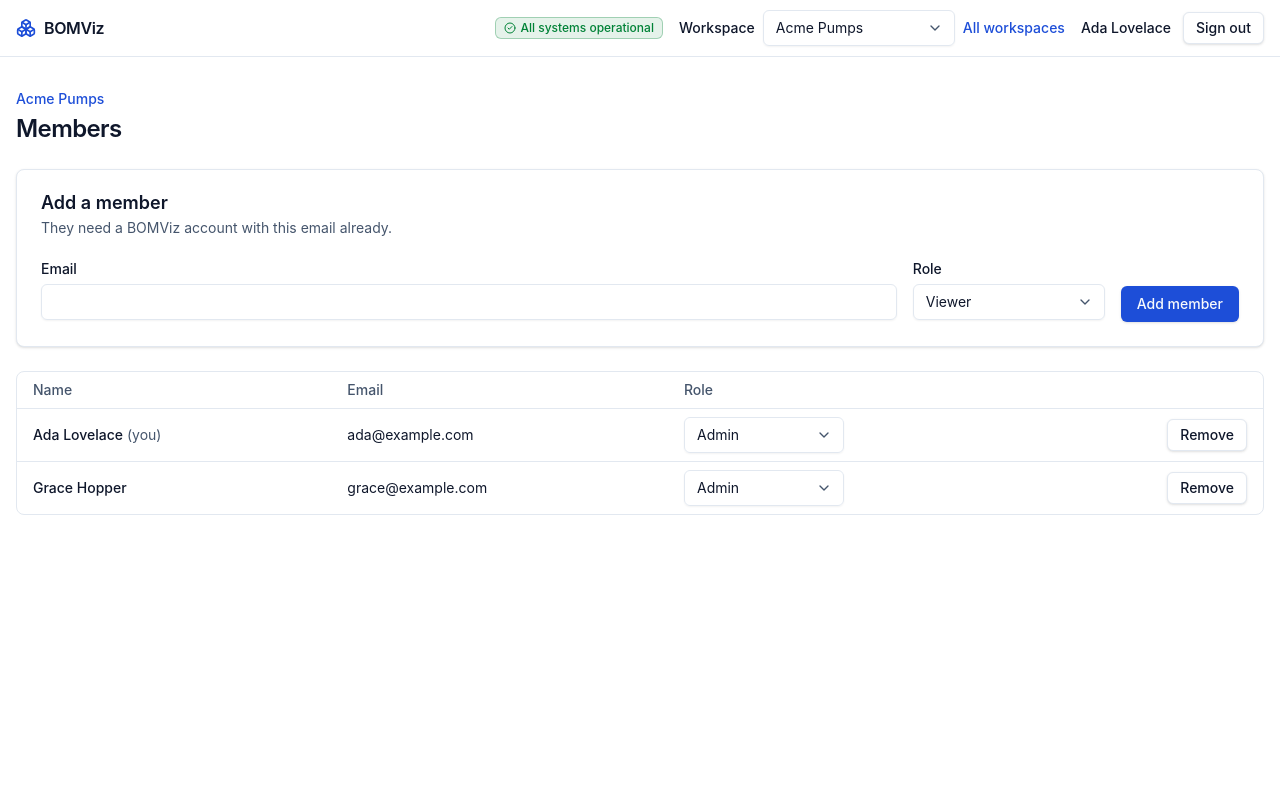
it: last admin protection › shows the server LAST_ADMIN error inline when a demotion is refused
Select "Viewer" in the dropdown named "Role for Grace Hopper" at (764, 488), box [684, 470, 844, 506]
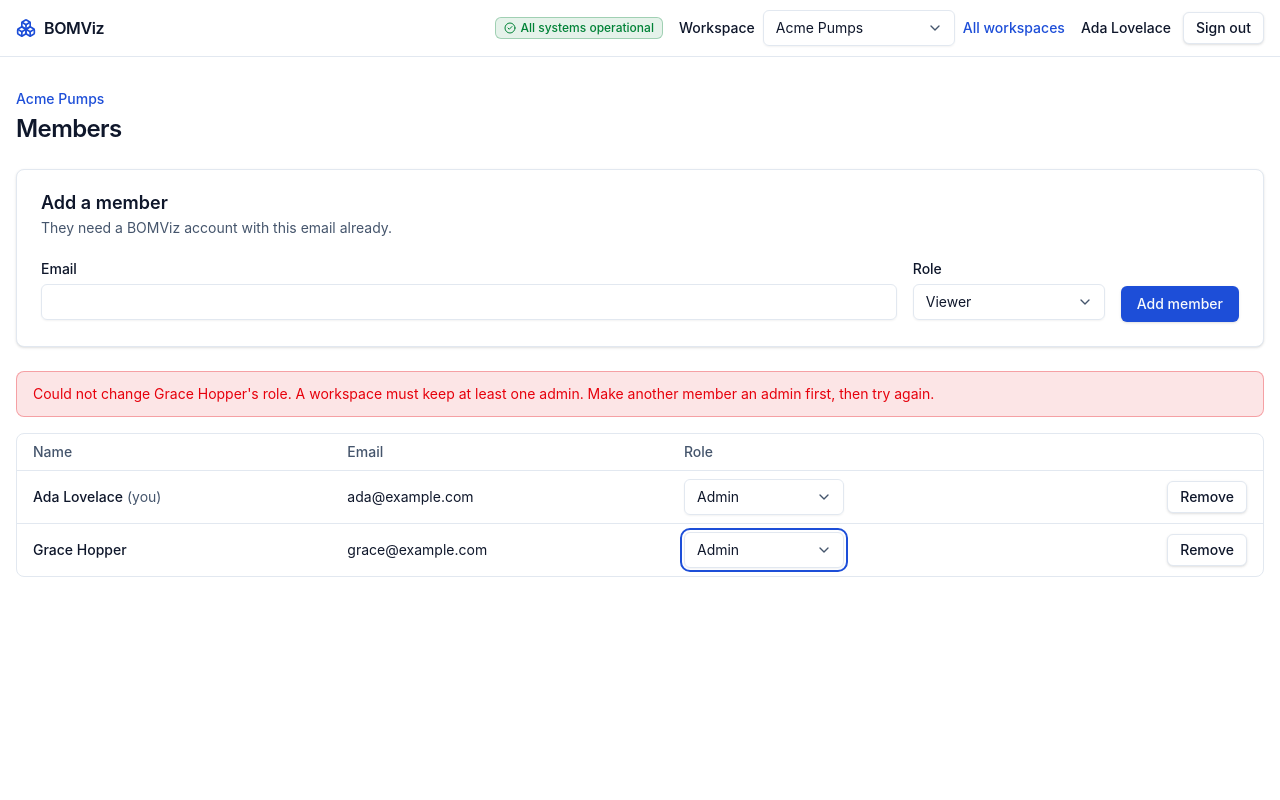
Result: the 2nd message shows "Could not change Grace Hopper's role. A workspace must keep at least one admin." at [33, 385, 934, 402]
